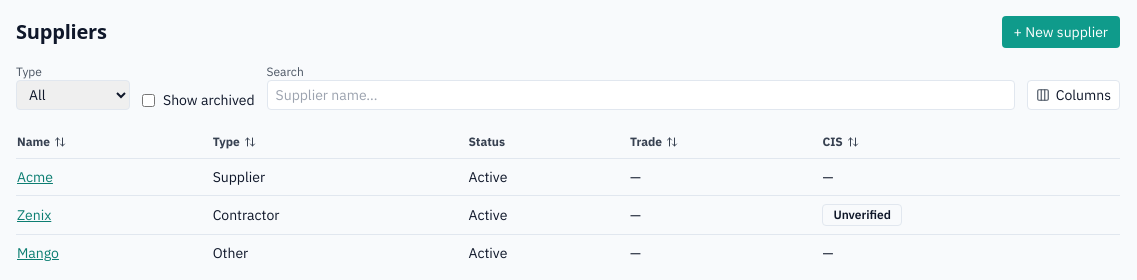
Test: SupplierList — click-to-sort (Chat 41 §R-eyeball-Step2B Part 2) › switching to a different sort column resets to asc
Click the button with test id "supplier-list-sort-name".
click(42, 142)  # box [17,134,66,150]
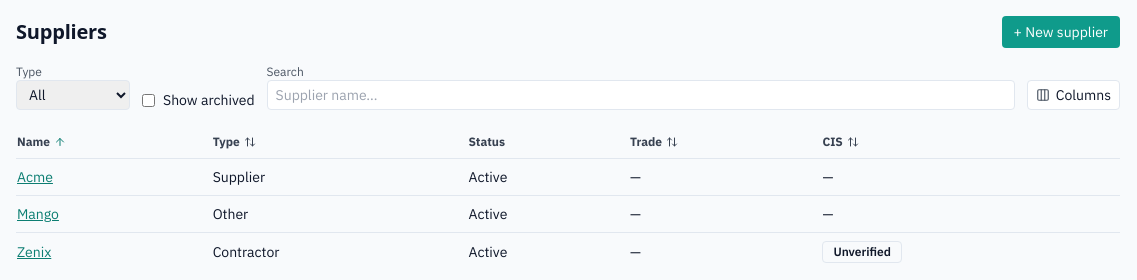
Click the button with test id "supplier-list-sort-name".
click(42, 142)  # box [17,134,66,150]
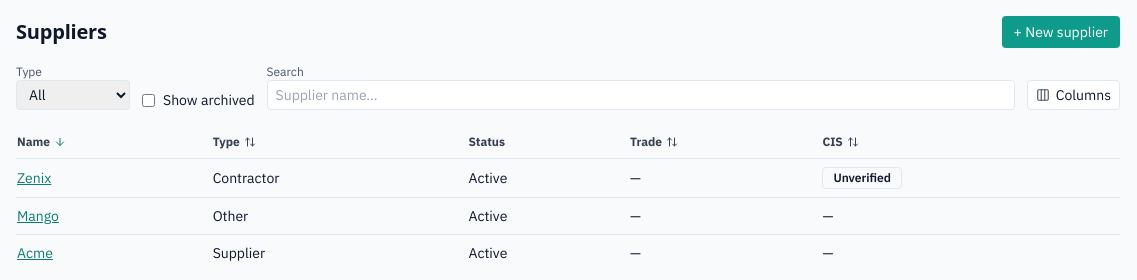
Expected: the icon with test id "supplier-list-sort-name-desc" is shown, [54,136,66,148]
Click the button with test id "supplier-list-sort-type".
click(234, 142)  # box [213,134,256,150]
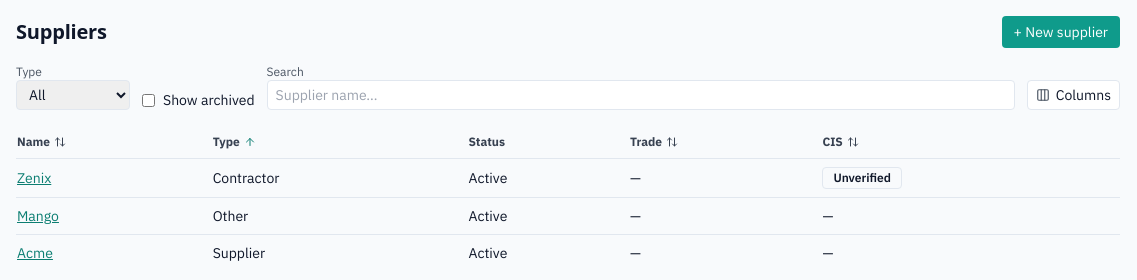
Expected: the icon with test id "supplier-list-sort-type-asc" is shown, [244,136,256,148]
Expected: the icon with test id "supplier-list-sort-name-none" is shown, [54,136,66,148]
